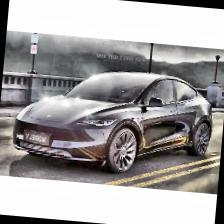EV: (11, 63, 217, 182)
